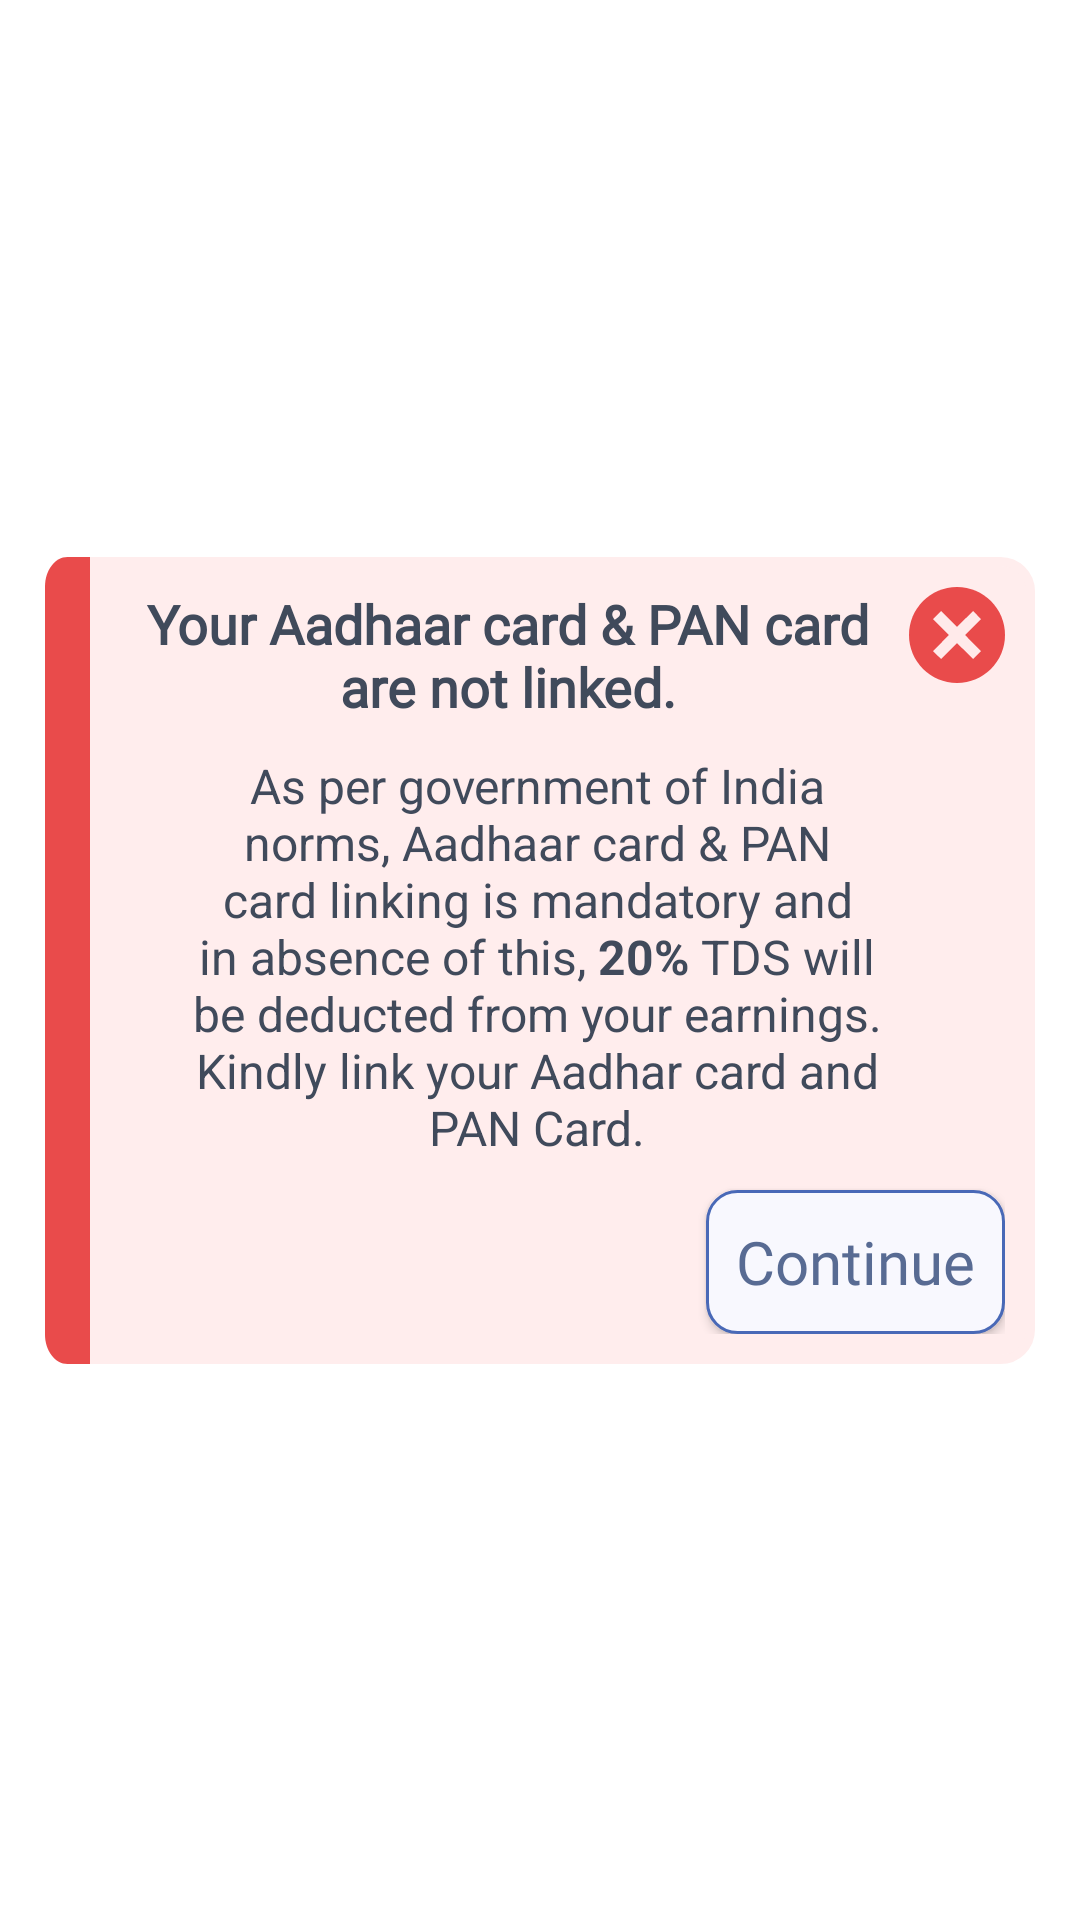

Icon bounding boxes for this 1080*1920 phone screenshot, format detection(x1, y1, x2, y2):
cancel status: detection(909, 587, 1005, 683)
